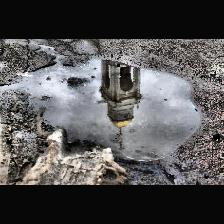pothole: (8, 55, 202, 161)
